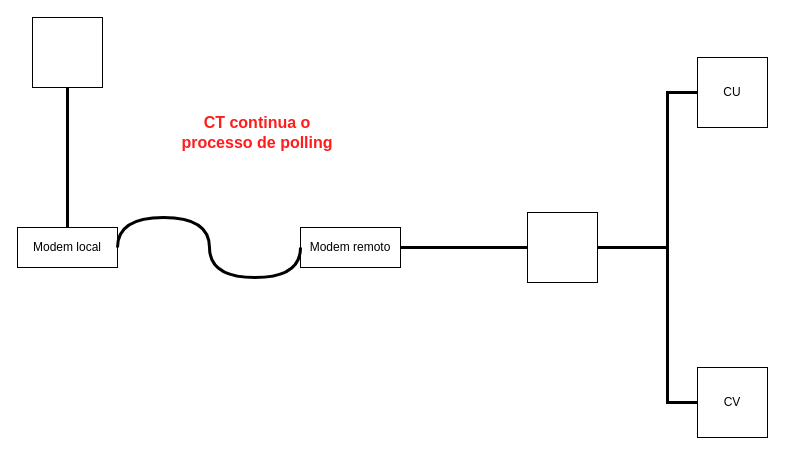
Some shapes in this 785 by 455 pixel diagram are drawn without their labels. The shapes that lost their labels are listed below. From the top down, each one's centre as x and y in pixels, then its label:
At pixel 67 52: "CT".
At pixel 562 247: "UDD".
